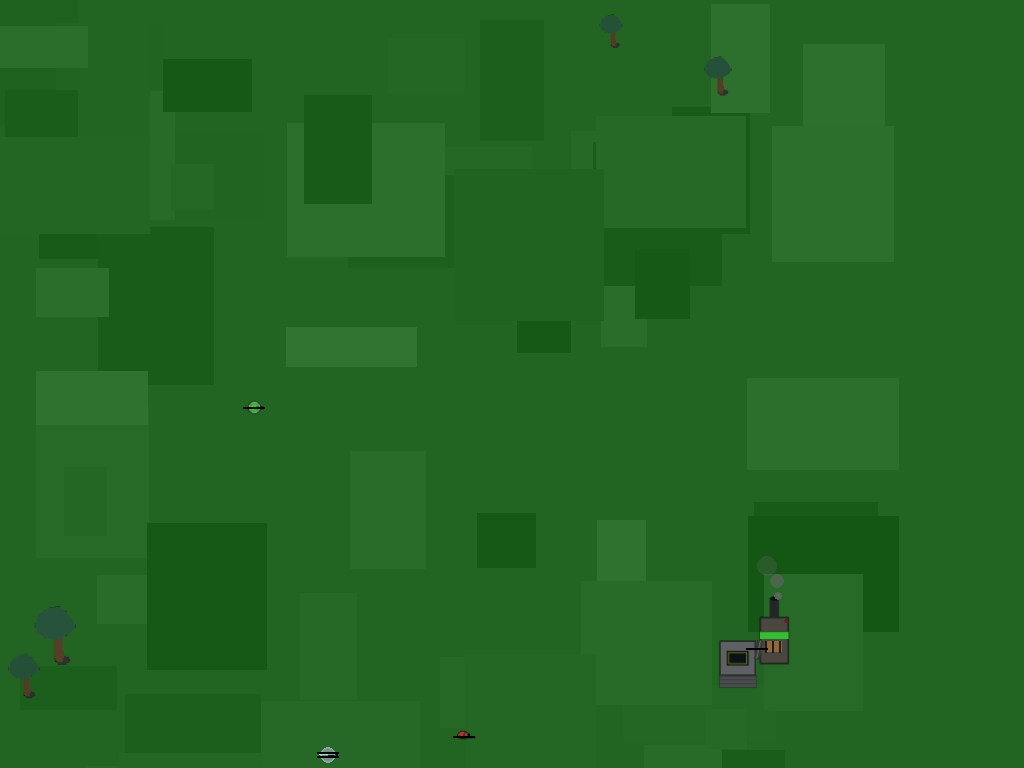MiningRig: (714, 604, 799, 689)
Rifleman: (239, 392, 268, 421)
Shotgunner: (313, 740, 342, 768)
Sniper: (449, 720, 478, 749)
